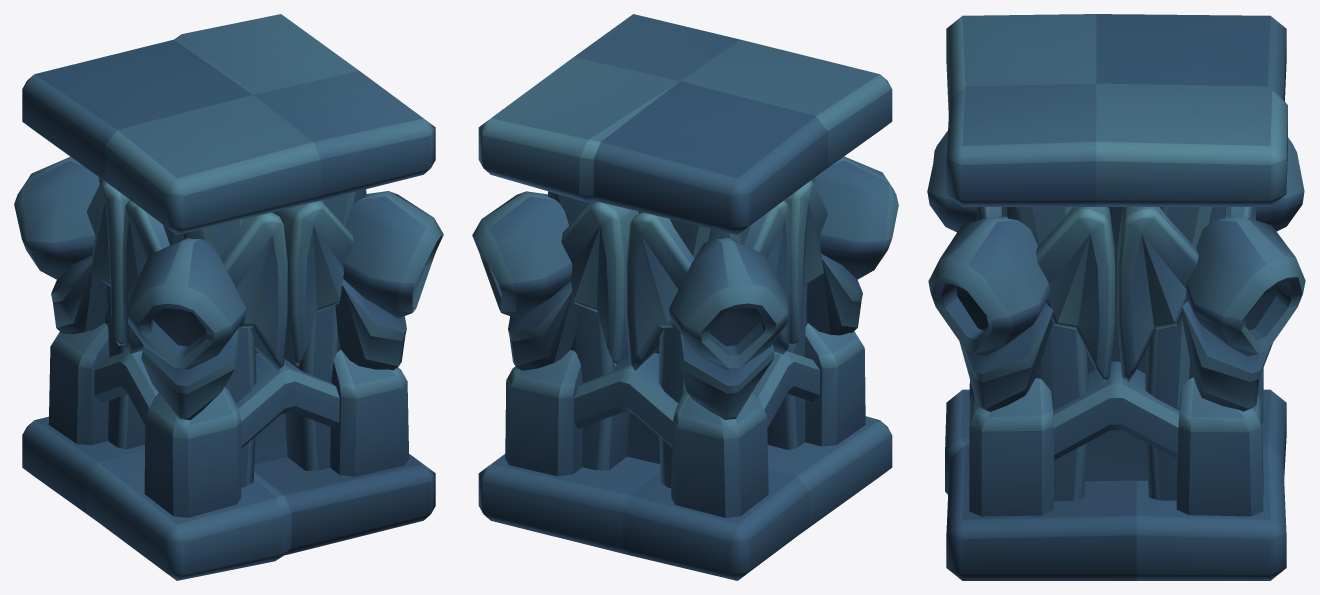
Rendered from pillar_middle.fbx.
3 views of the same model, side by side, from view 1: azimuth 30°, elevation 25°; view 2: azimuth 150°, elevation 25°; view 3: azimuth 270°, elevation 25° (orthographic). The views are drawn at different scales.
Visible parts, largest first — view 1: pillar_middle; view 2: pillar_middle; view 3: pillar_middle.
Boxes of the visible parts, left/top/right/bottom form: pillar_middle: left=14, top=14, right=443, bottom=580; pillar_middle: left=472, top=14, right=898, bottom=580; pillar_middle: left=927, top=14, right=1305, bottom=580.
Bounding box in the file's own units: 160 × 208 × 160.
